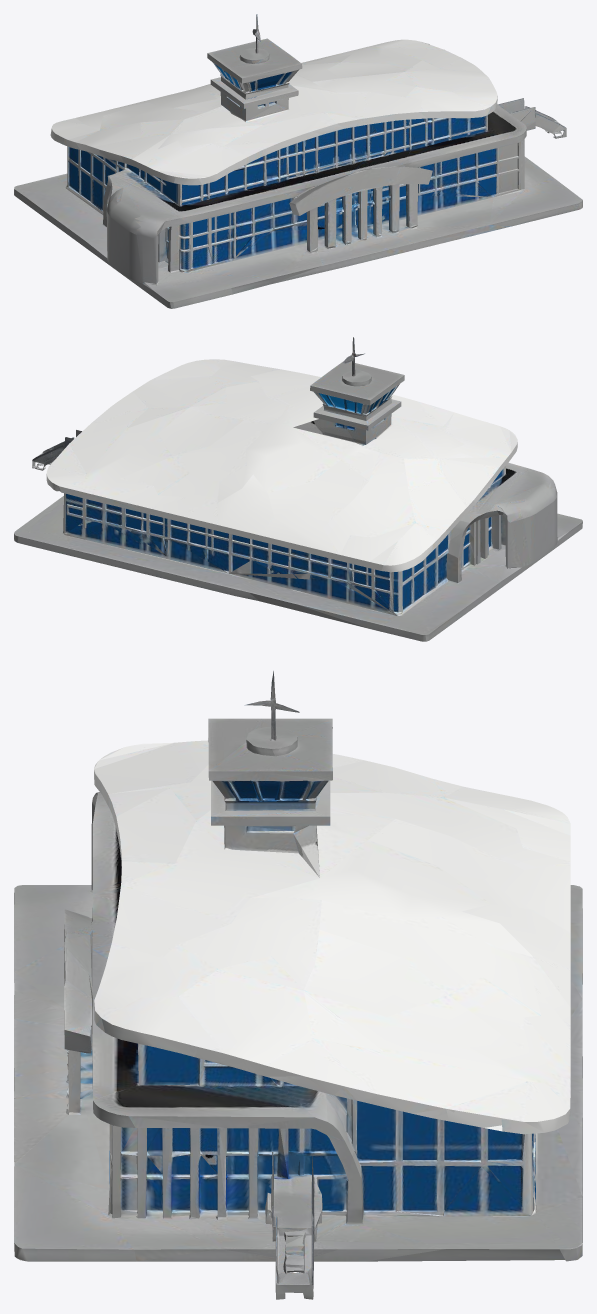
File: lm_airport.glb
3 views of the same model, one above another, from view 1: azimuth 30°, elevation 25°; view 2: azimuth 150°, elevation 25°; view 3: azimuth 270°, elevation 25° (orthographic). The views are drawn at different scales.
Parts seen in each view (by area): view 1: output_unwrapped; view 2: output_unwrapped; view 3: output_unwrapped.
Part boxes in pixels (<box>): output_unwrapped: <box>14,14,582,308</box>; output_unwrapped: <box>14,337,582,641</box>; output_unwrapped: <box>14,671,582,1299</box>.
Size of the model in its own units: 1.9 by 0.7794 by 1.1.
Materials: 1 (1 with a texture image).
